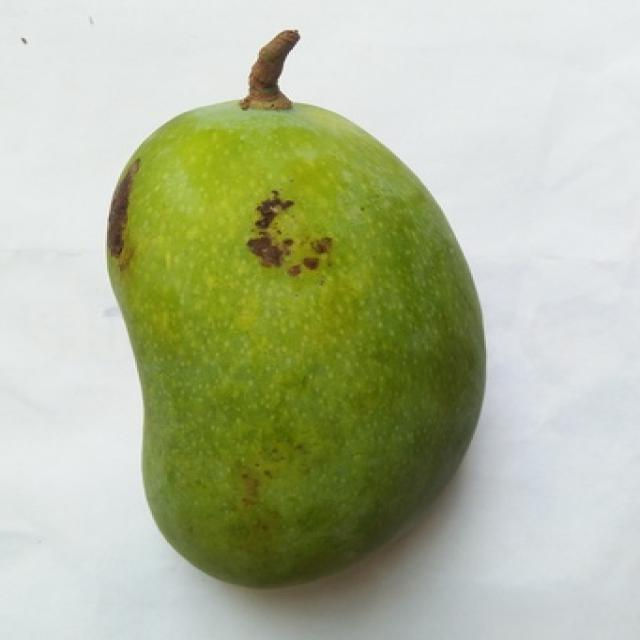Mango: (107, 102, 480, 585)
